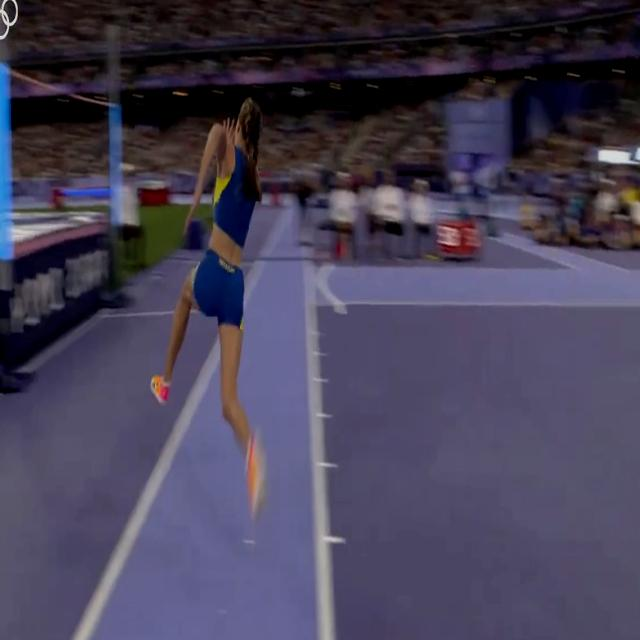run: (148, 99, 267, 523)
